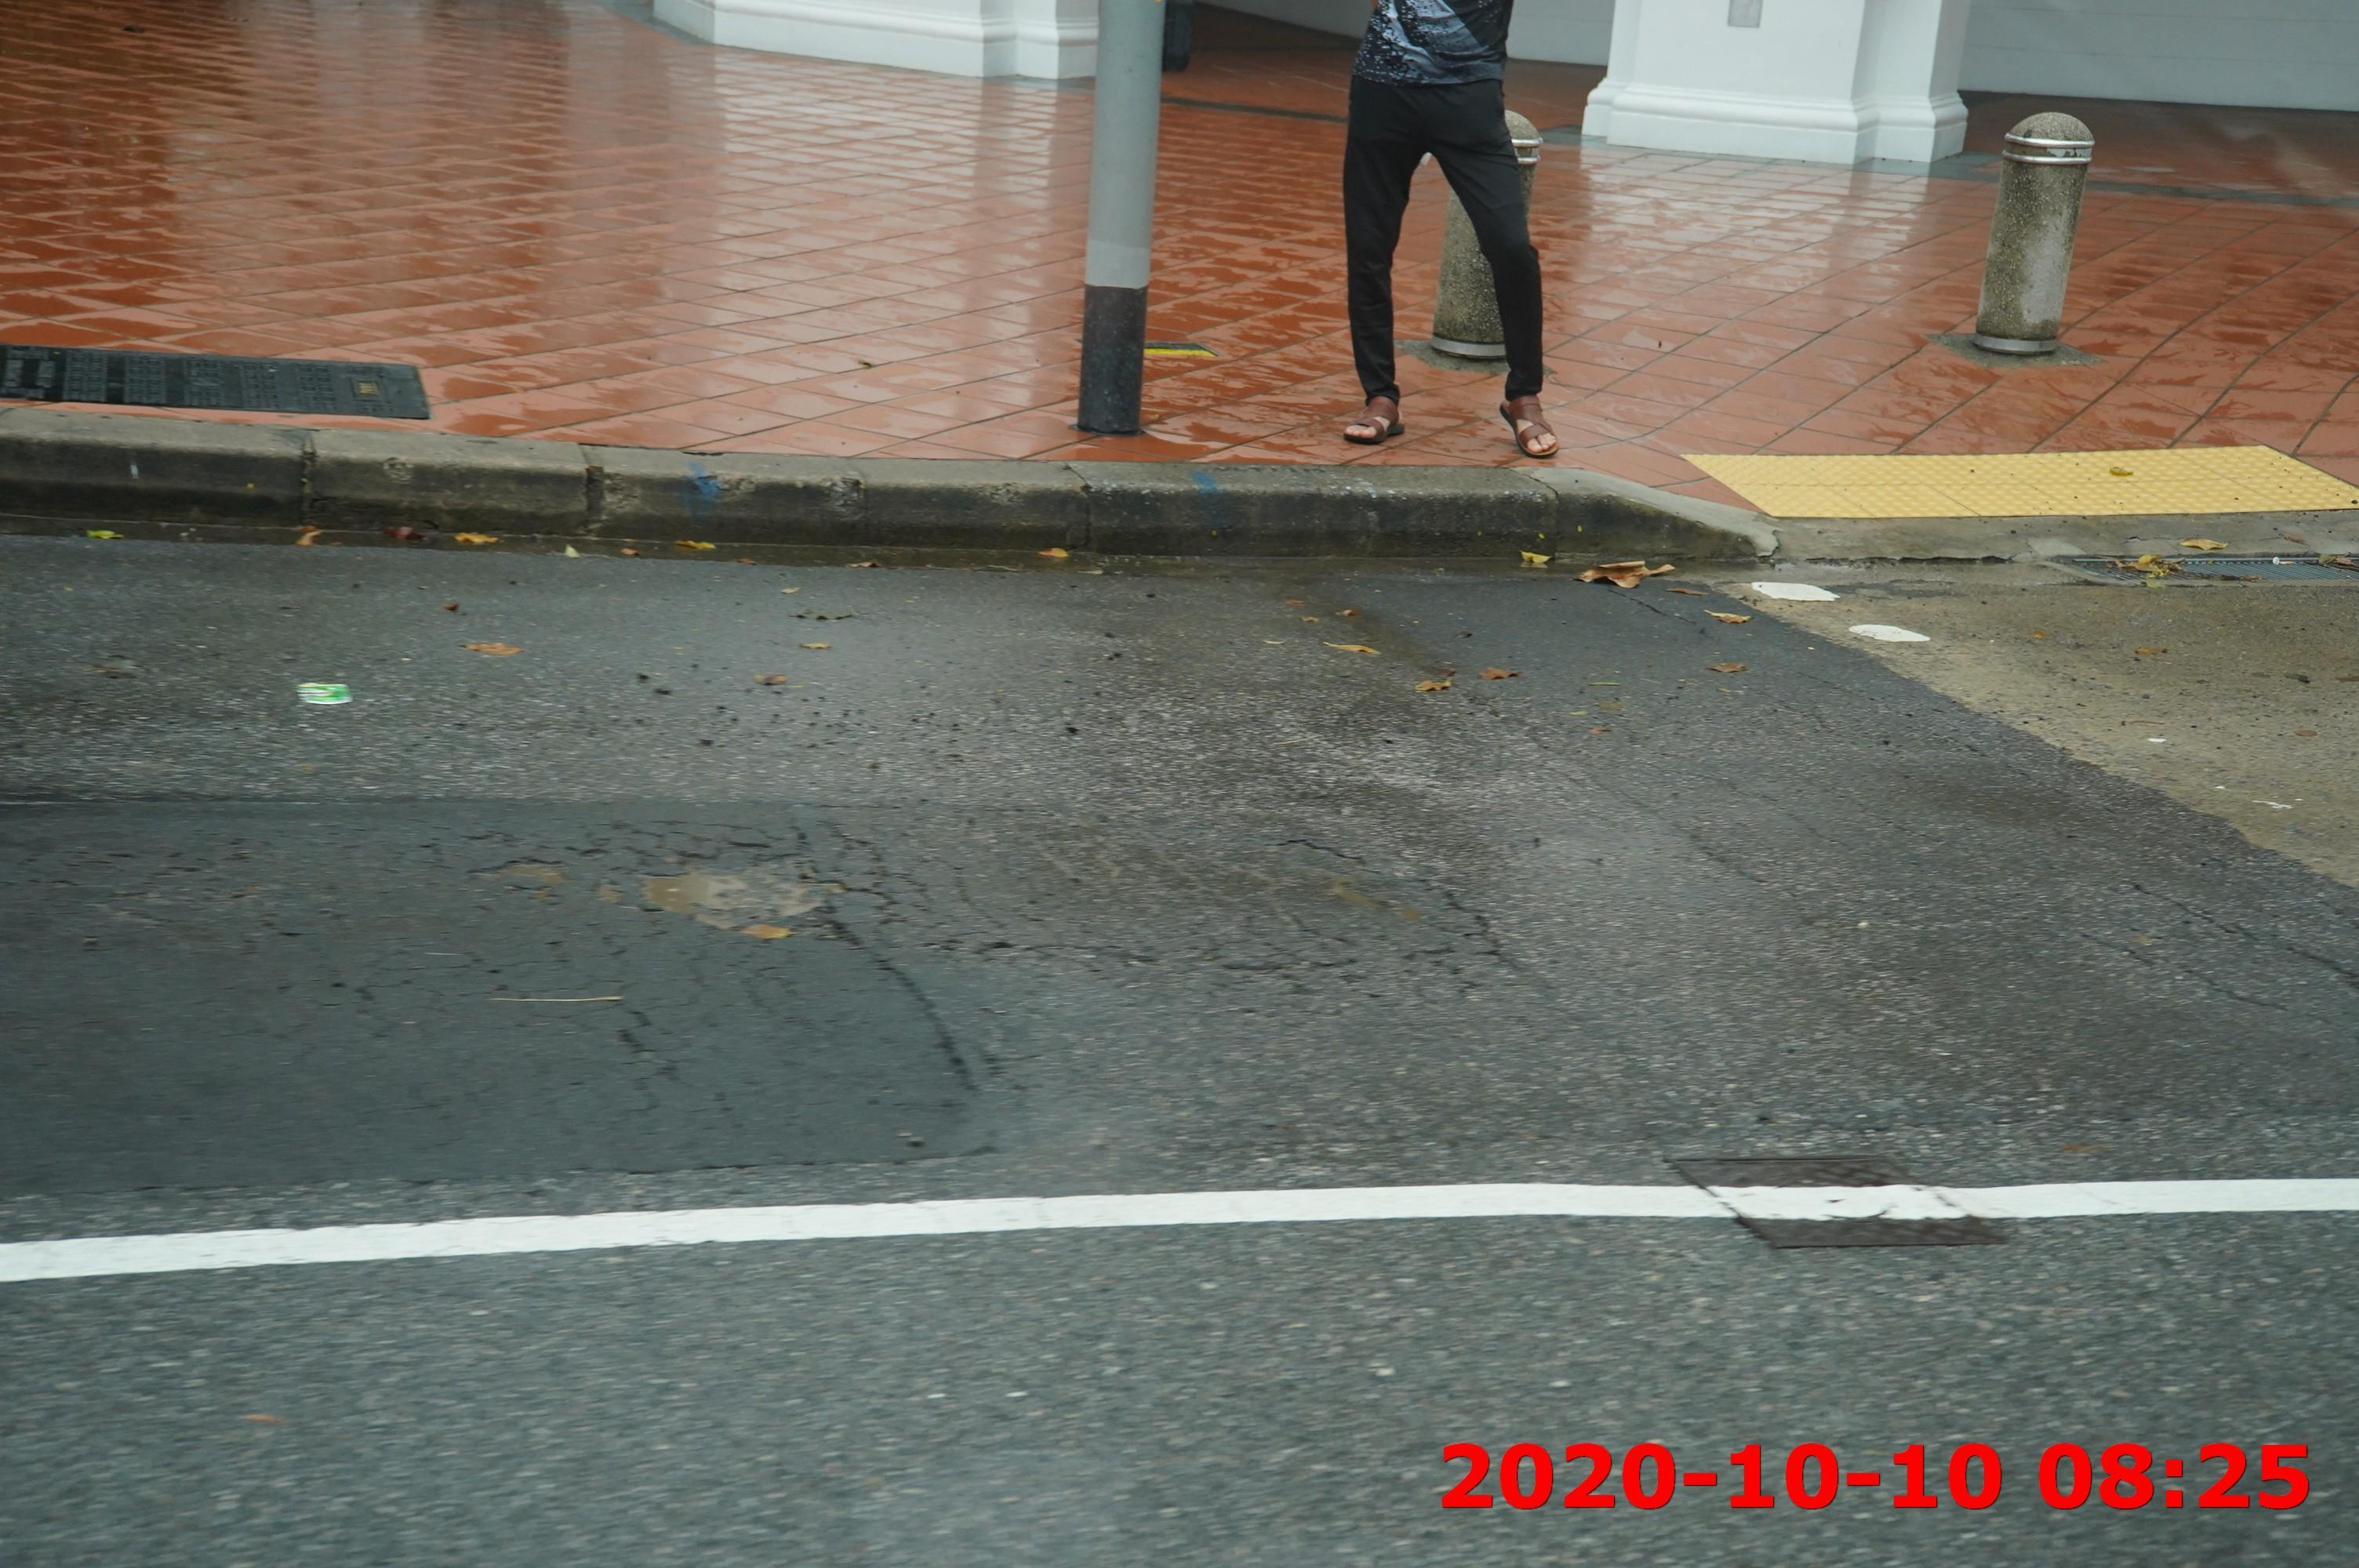wearing course peeling off: (620, 833, 868, 950)
